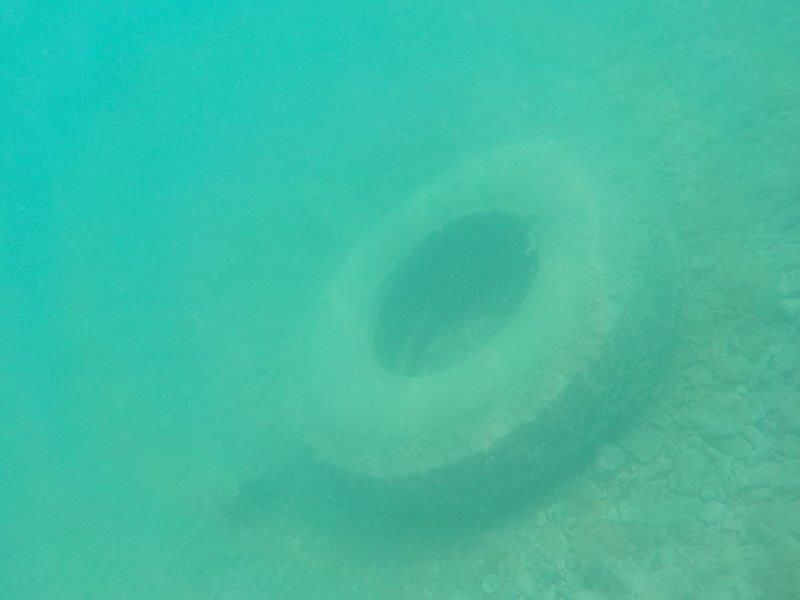tire: (276, 120, 702, 524)
